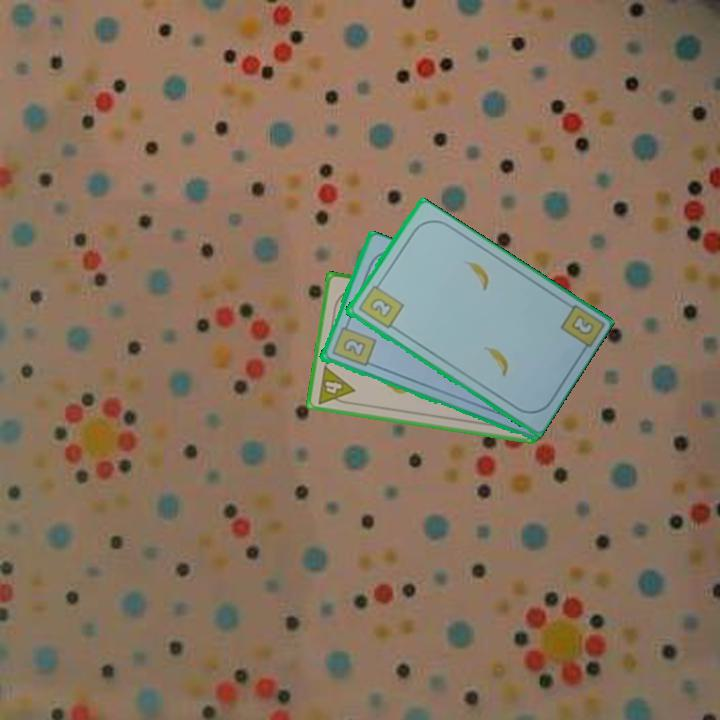2b: (354, 278, 406, 331), (328, 318, 378, 369), (567, 311, 596, 338)
4p: (314, 362, 357, 408)
